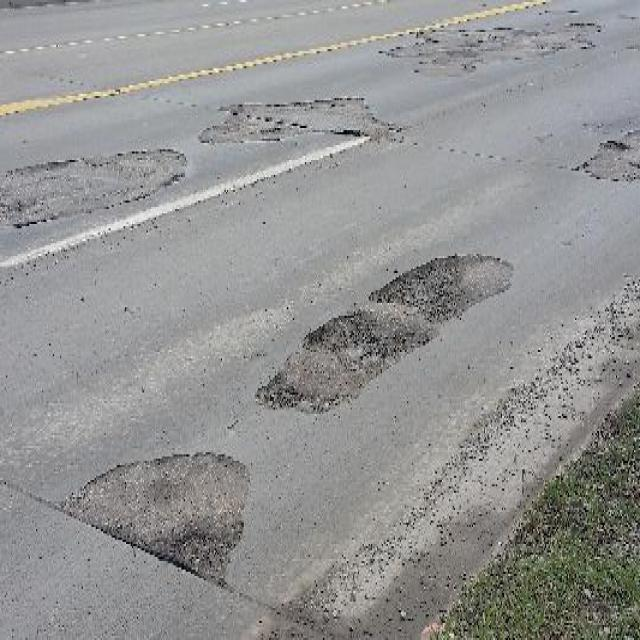Pothole: (305, 313, 429, 360), (373, 251, 466, 313), (165, 528, 238, 582)
